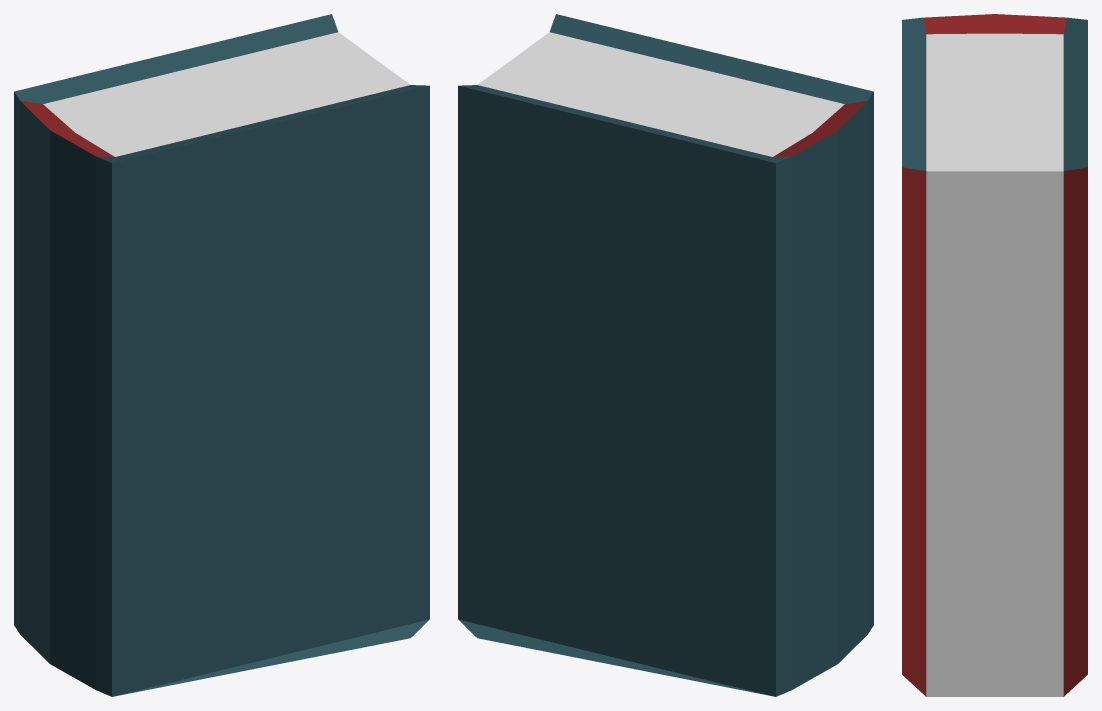
The model's file is blue book.fbx.
3 renders of one model, left to right at view 1: azimuth 30°, elevation 25°; view 2: azimuth 150°, elevation 25°; view 3: azimuth 270°, elevation 25°, orthographic. The views are drawn at different scales.
Parts seen in each view (by area): view 1: Book/9; view 2: Book/9; view 3: Book/9.
Part boxes in pixels (x1,y1,x2,y2): Book/9: (14,14,429,696); Book/9: (458,14,873,696); Book/9: (902,14,1087,696).
Bounding box in the file's own units: 41.95 × 67.95 × 21.5.
